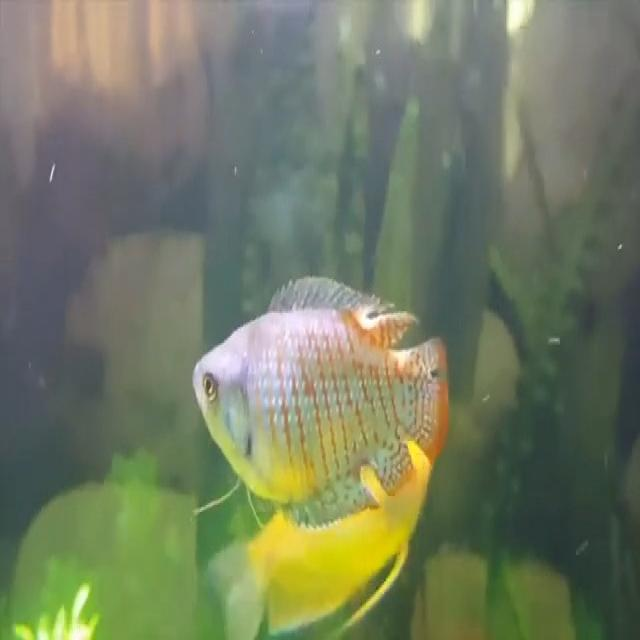fish: (189, 270, 452, 534)
